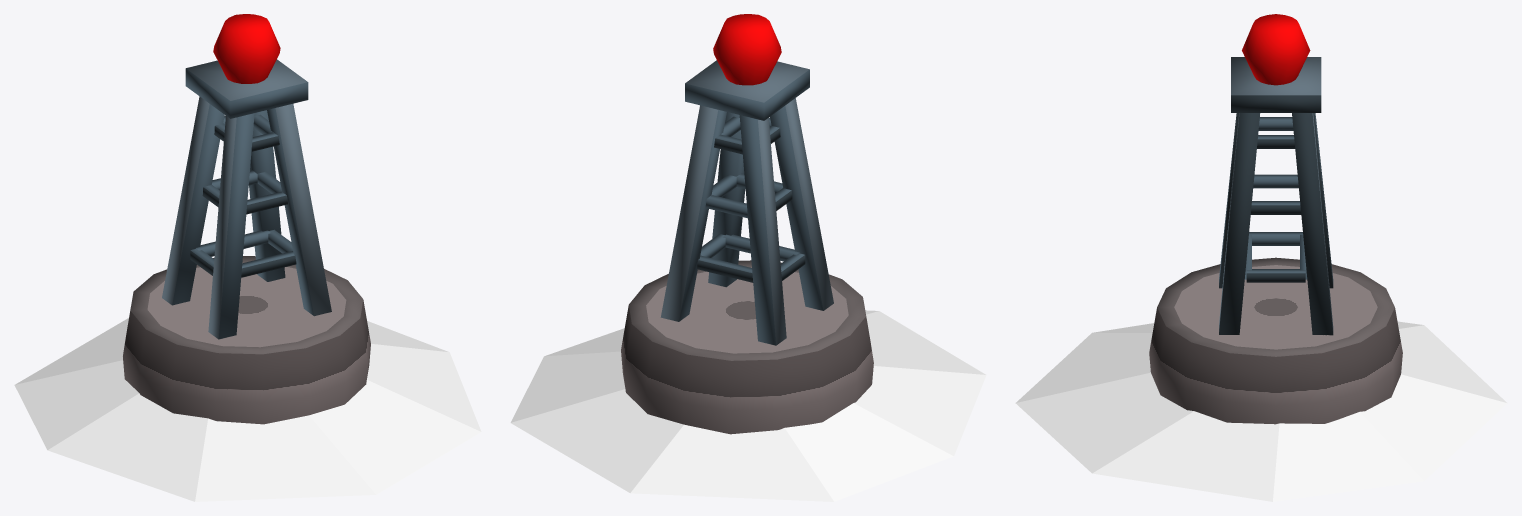
The model's file is boy.fbx.
3 renders of one model, left to right at view 1: azimuth 30°, elevation 25°; view 2: azimuth 150°, elevation 25°; view 3: azimuth 270°, elevation 25°, orthographic.
Visible parts, largest first — view 1: boy, boyriple; view 2: boy, boyriple; view 3: boy, boyriple.
Boxes of the visible parts, box(x1,y1,x2,y2) form: boy: box(123, 14, 370, 424); boyriple: box(14, 318, 481, 501); boy: box(621, 14, 873, 434); boyriple: box(510, 310, 986, 501); boy: box(1149, 14, 1402, 424); boyriple: box(1015, 321, 1507, 501).
Bounding box in the file's own units: 2.85 × 3.03 × 3.
